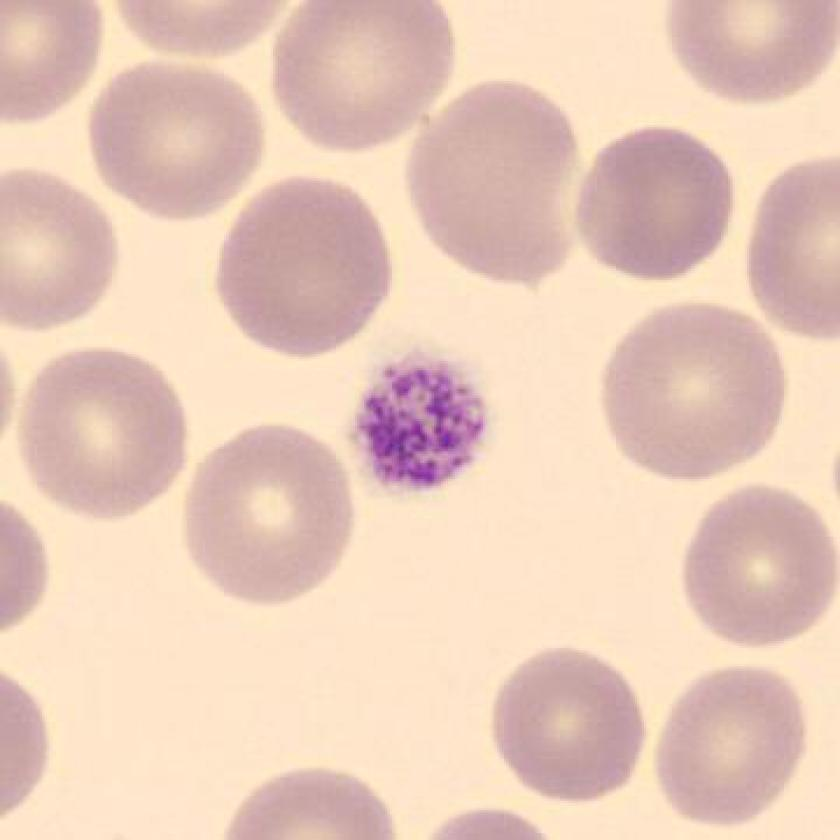platelets: (337, 341, 498, 508)
